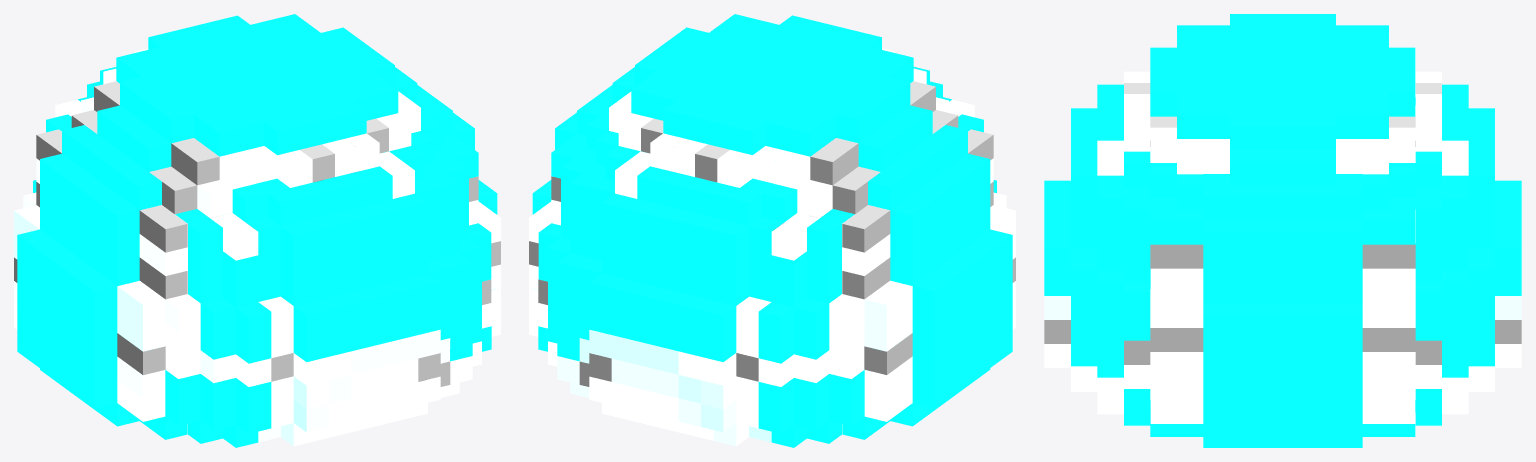
The model's file is 690_form_shiny.glb.
3 views of the same model, side by side, from view 1: azimuth 30°, elevation 25°; view 2: azimuth 150°, elevation 25°; view 3: azimuth 270°, elevation 25° (orthographic). The views are drawn at different scales.
Bounding box in the file's own units: 18 × 12 × 18.
